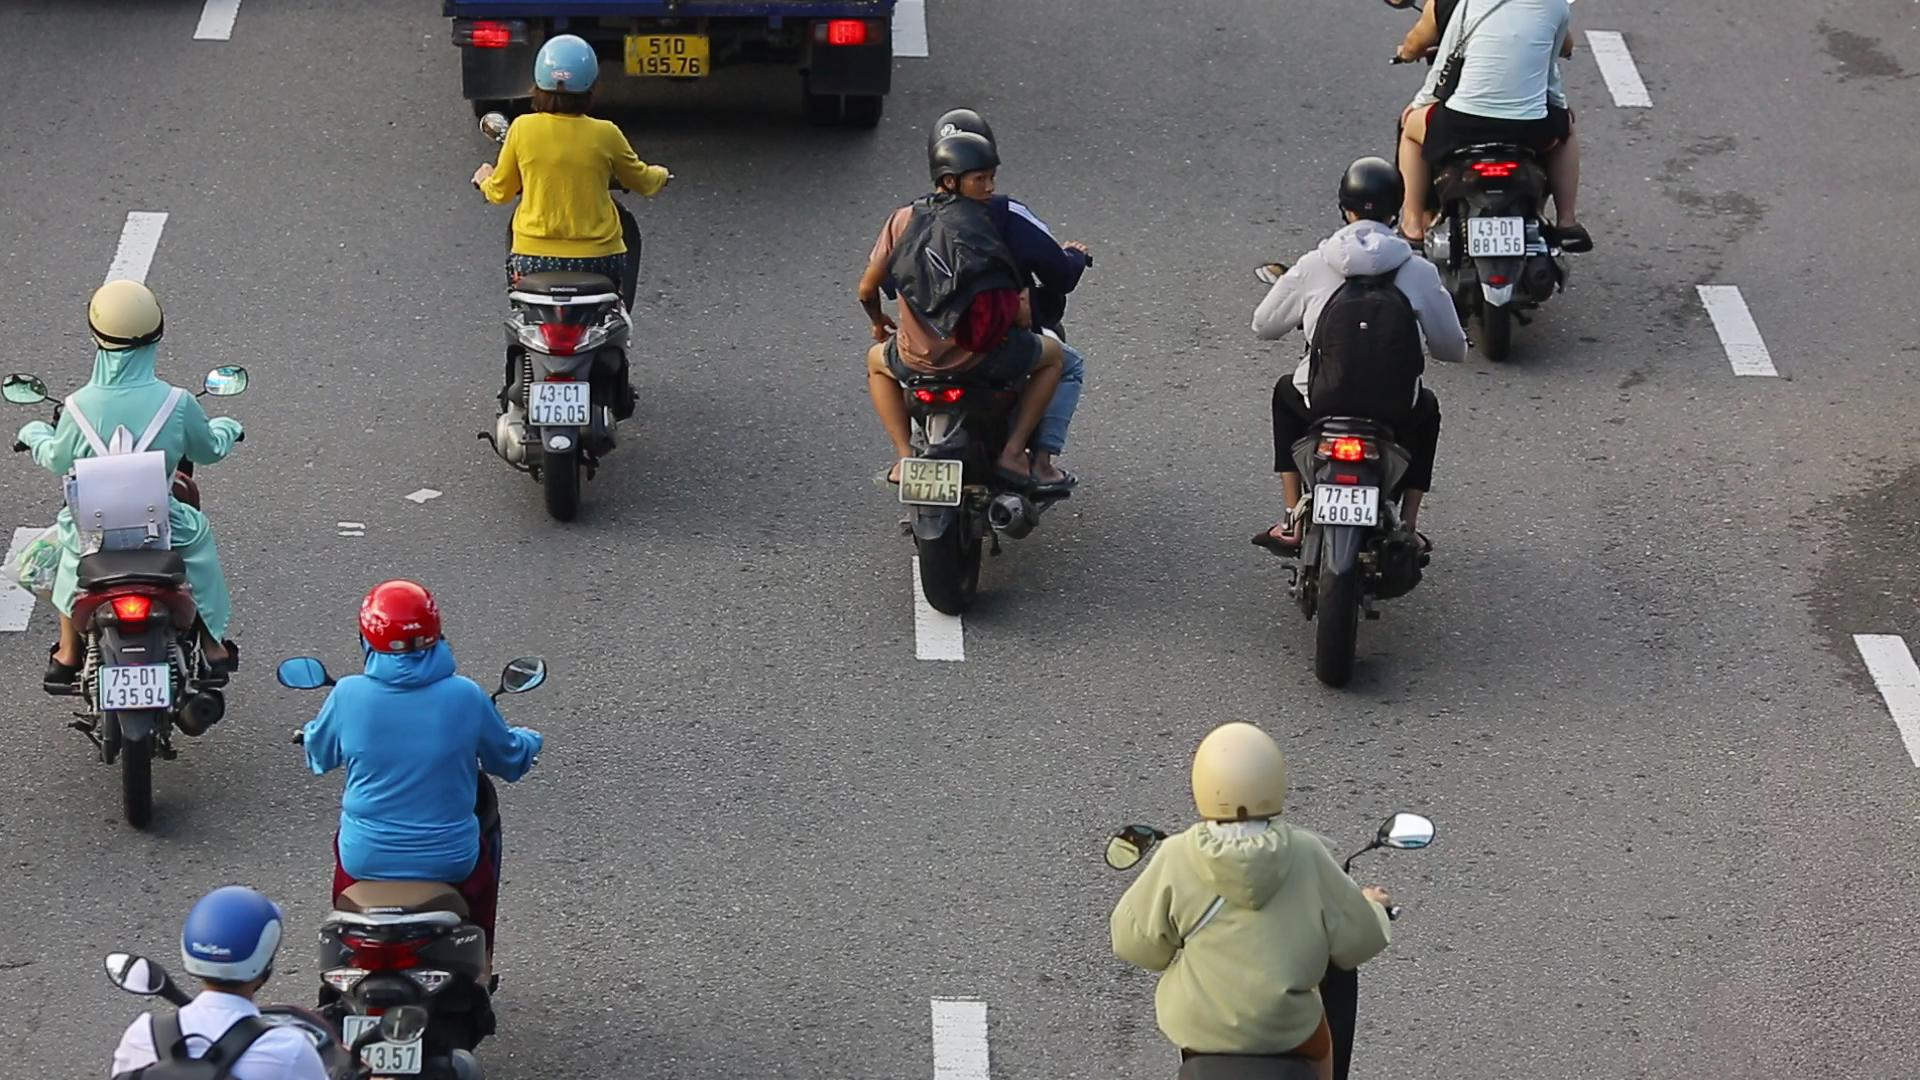motobike: (0, 278, 260, 839), (856, 104, 1104, 615), (1241, 154, 1469, 696), (459, 22, 692, 517)
